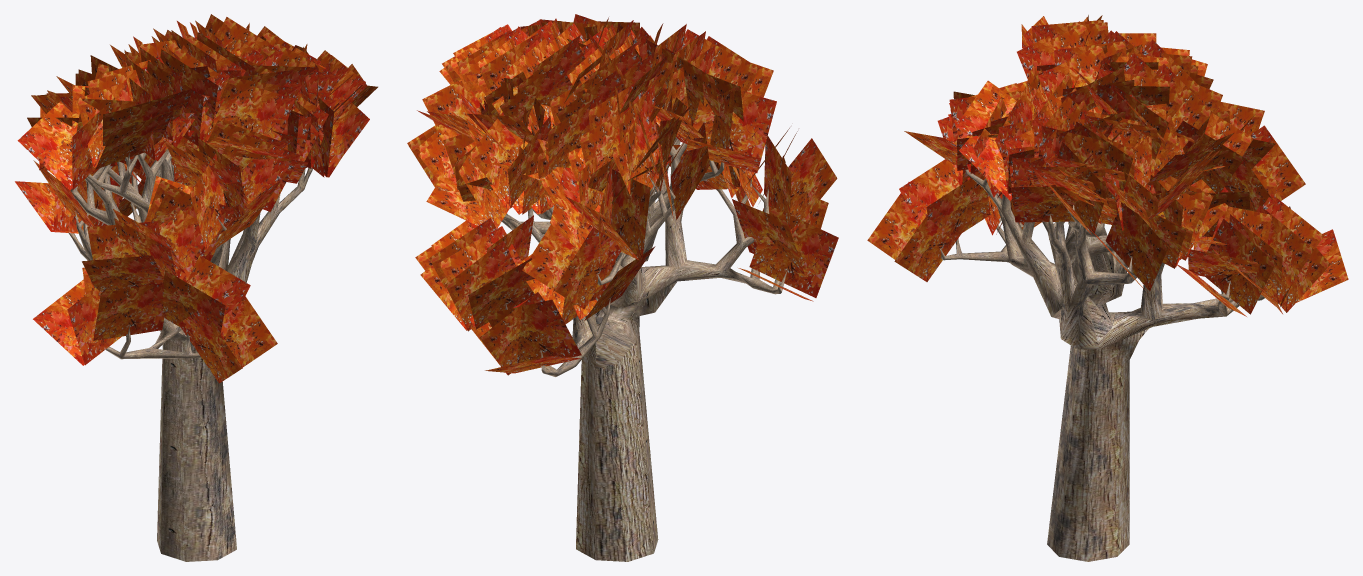
3 views of the same model, side by side, from view 1: azimuth 30°, elevation 25°; view 2: azimuth 150°, elevation 25°; view 3: azimuth 270°, elevation 25° (orthographic). The views are drawn at different scales.
Visible parts, largest first — view 1: twig_006, tree_006; view 2: twig_006, tree_006; view 3: twig_006, tree_006.
Part boxes in pixels (<box>): twig_006: <box>15,14,377,383</box>; tree_006: <box>68,149,312,561</box>; twig_006: <box>407,14,838,375</box>; tree_006: <box>502,137,787,561</box>; twig_006: <box>867,15,1348,316</box>; tree_006: <box>941,169,1264,561</box>.
Size of the model in its own units: 6.95 by 8.17 by 9.44.
Materials: 2 (2 with a texture image).
